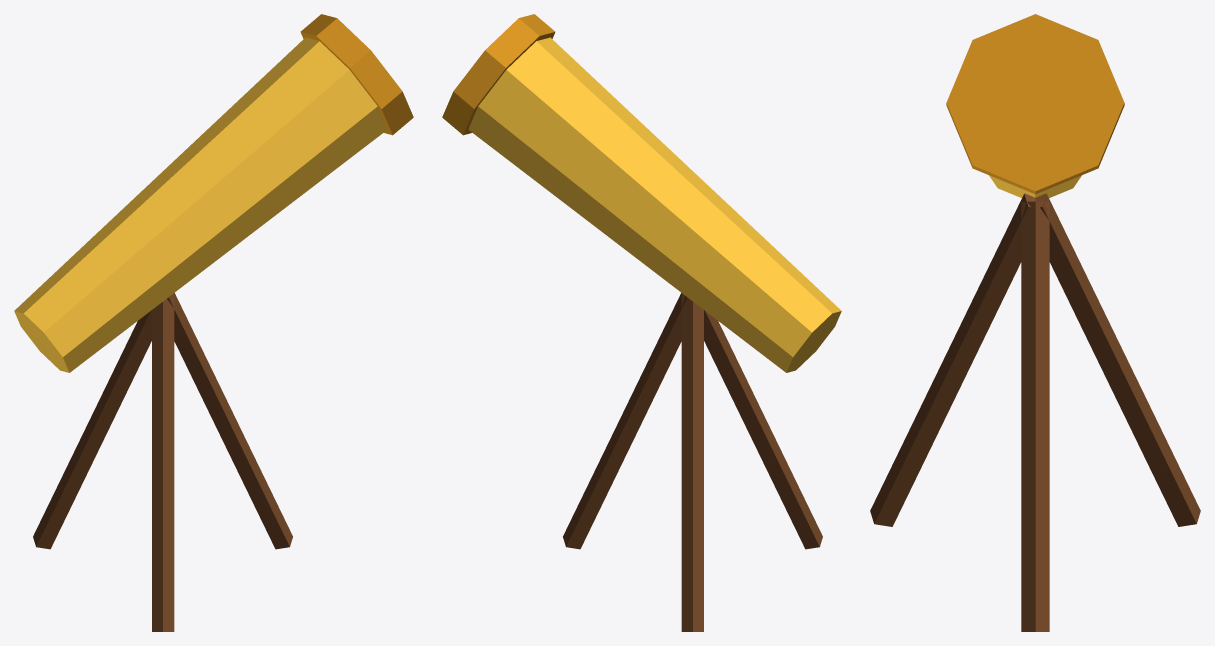
The model's file is Telescope.fbx.
3 views of the same model, side by side, from view 1: azimuth 30°, elevation 25°; view 2: azimuth 150°, elevation 25°; view 3: azimuth 270°, elevation 25° (orthographic). The views are drawn at different scales.
Visible parts, largest first — view 1: Telescope; view 2: Telescope; view 3: Telescope.
Part boxes in pixels (<box>): Telescope: <box>14,14,413,631</box>; Telescope: <box>442,14,841,631</box>; Telescope: <box>870,14,1200,631</box>.
Bounding box in the file's own units: 3.09 × 4.07 × 1.86.
1 material, 1 textured.
